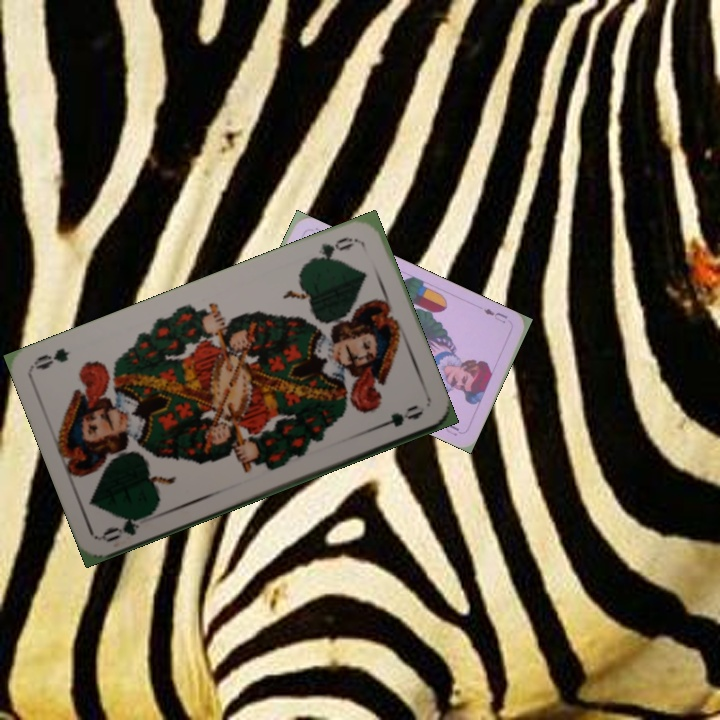EU: (479, 304, 510, 326)
GO: (99, 507, 155, 545), (304, 232, 360, 265)
